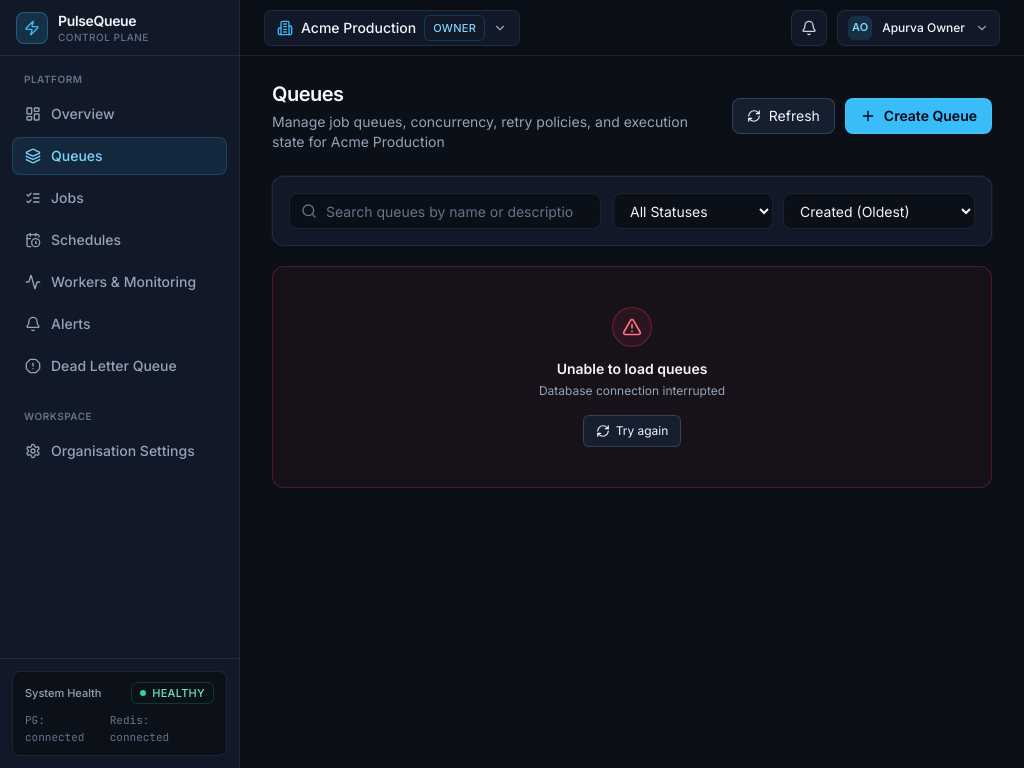
Test: Queue Management UI — Overview, CRUD, Pause/Resume, Detail & RBAC (Step 6.2) › renders empty state when no queues exist and retryable error state when API fails
Expected: the heading "Unable to load queues" is shown, [557, 359, 707, 379]
Expected: the text "Database connection interrupted" is shown, [539, 383, 725, 399]
Click the button "Try again" at (632, 431), box [583, 415, 681, 447]
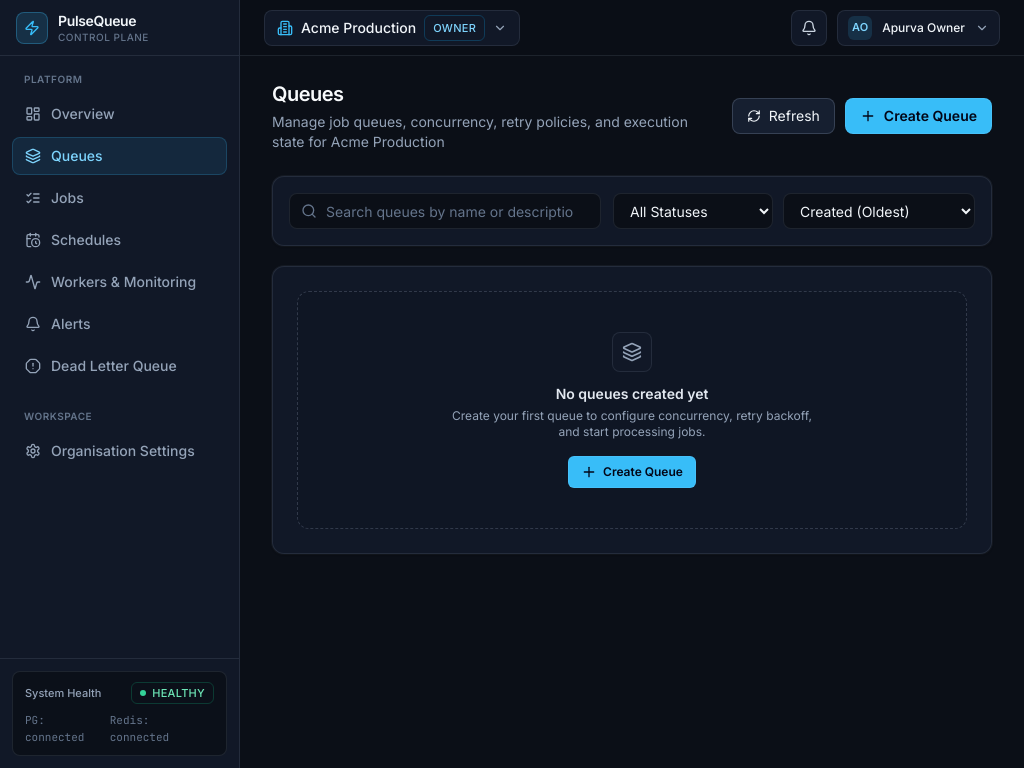
Result: the heading "No queues created yet" is shown at [556, 384, 708, 404]
